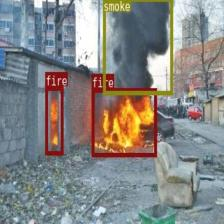fire: (92, 88, 156, 156), (44, 86, 62, 154)
smoke: (102, 0, 172, 94)
